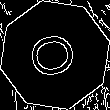O_E: (25, 28, 85, 82)
